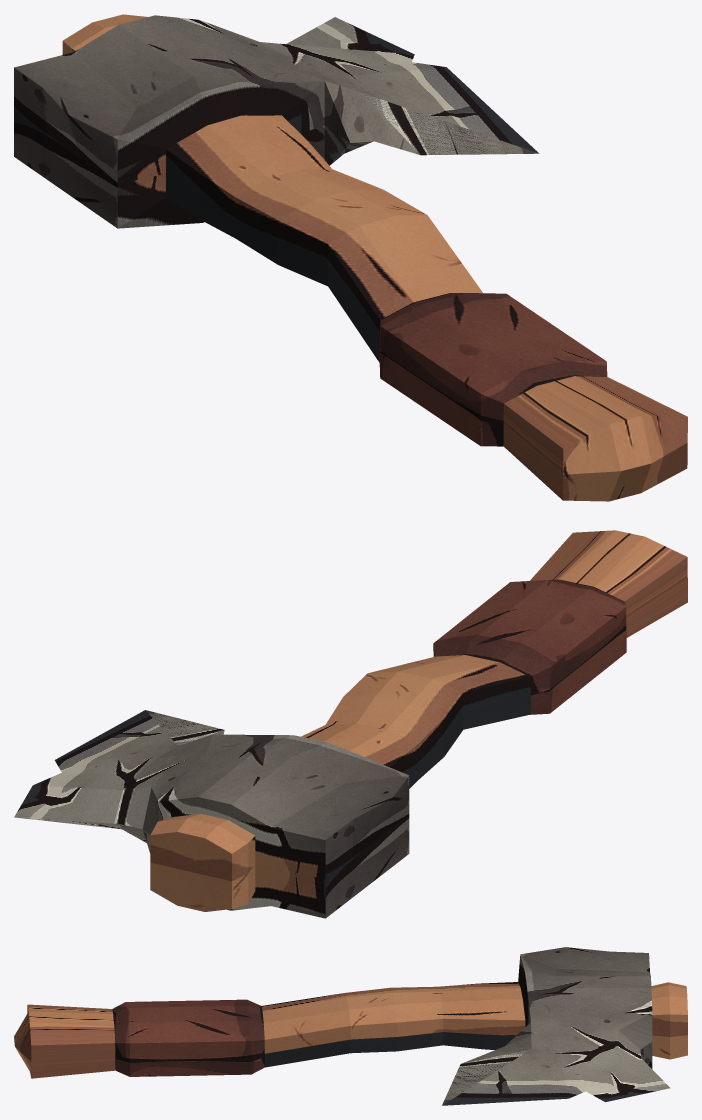
Rendered from DropItem_5.fbx.
The picture shows the model from 3 angles, top to bottom: view 1: azimuth 30°, elevation 25°; view 2: azimuth 150°, elevation 25°; view 3: azimuth 270°, elevation 25°; orthographic projection. The views are drawn at different scales.
Visible parts, largest first — view 1: FBX_DropItem_5; view 2: FBX_DropItem_5; view 3: FBX_DropItem_5.
Boxes of the visible parts, x1,y1,x2,y2 form: FBX_DropItem_5: (14,14,687,501); FBX_DropItem_5: (14,530,687,918); FBX_DropItem_5: (14,947,687,1105).
Size of the model in its own units: 2624 by 852 by 6201.
